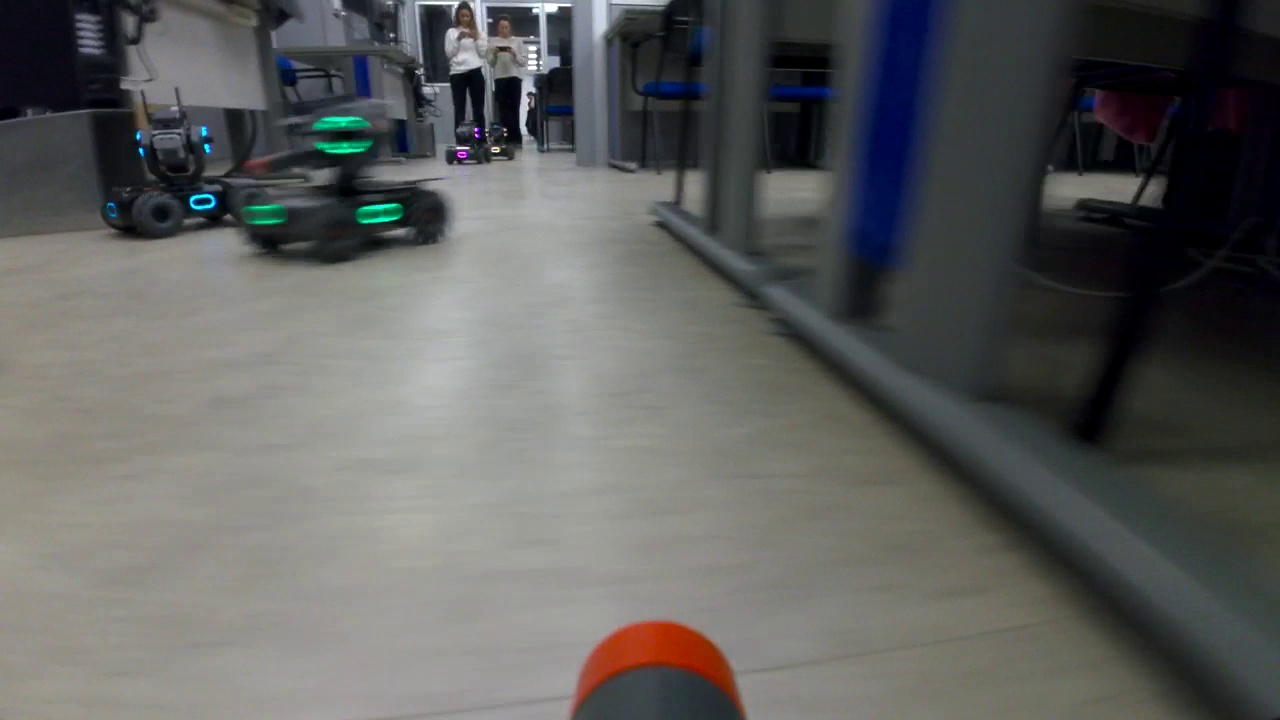robot: (236, 111, 447, 273), (102, 113, 223, 244), (444, 121, 489, 165), (486, 125, 517, 164)
